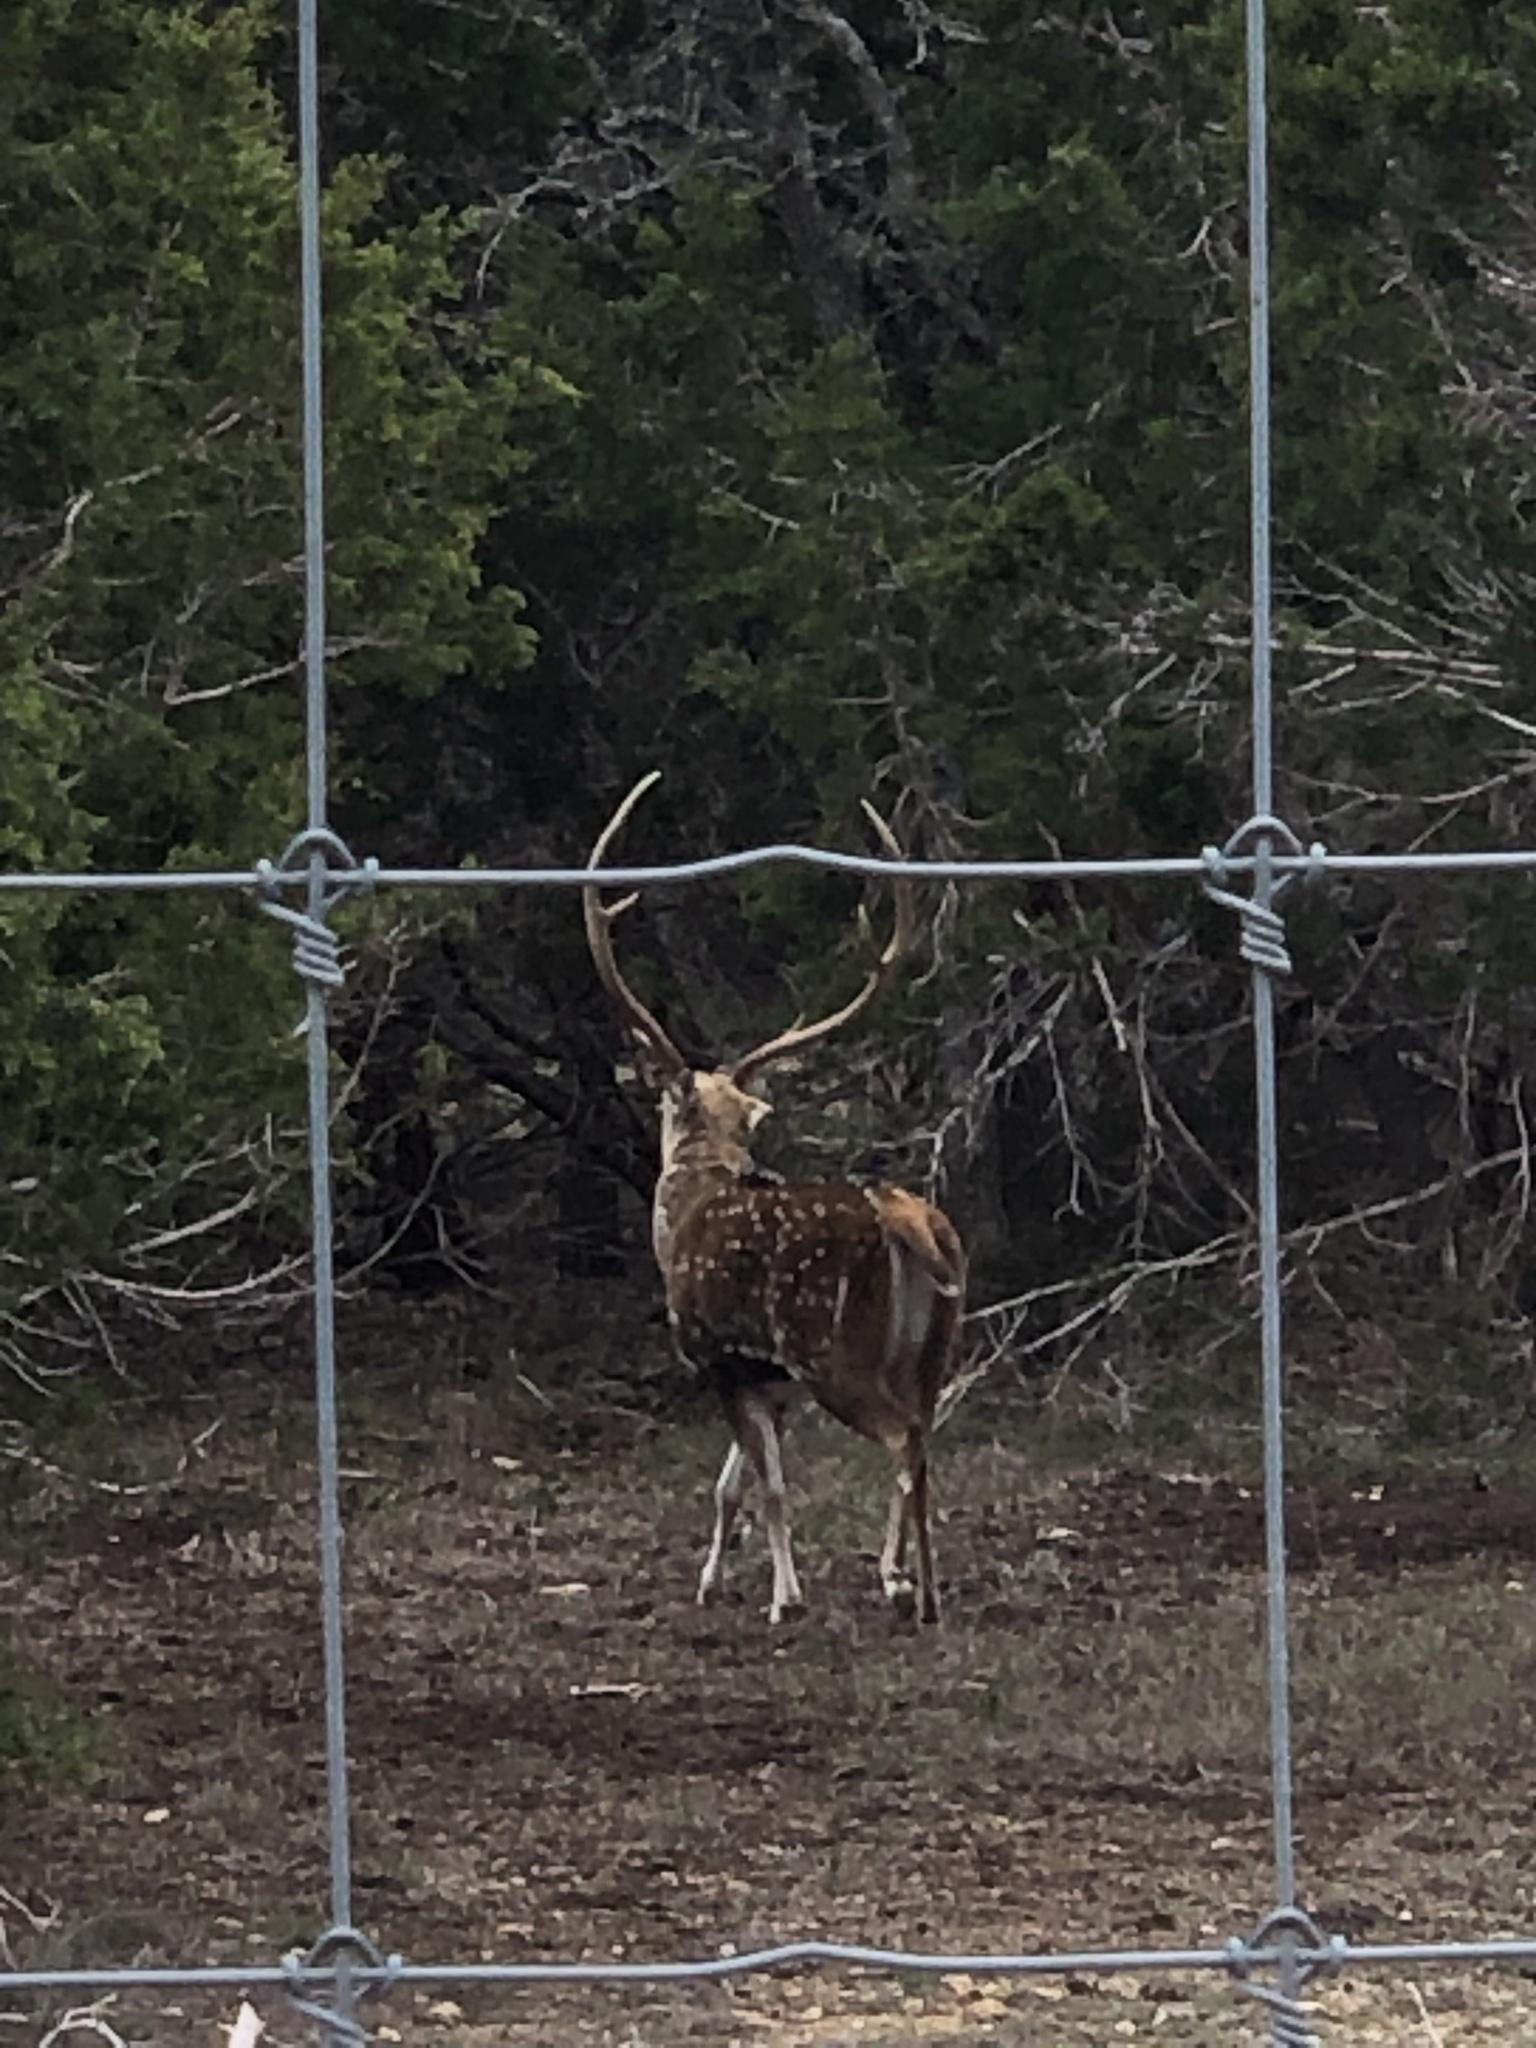Deer: (581, 771, 966, 1622)
